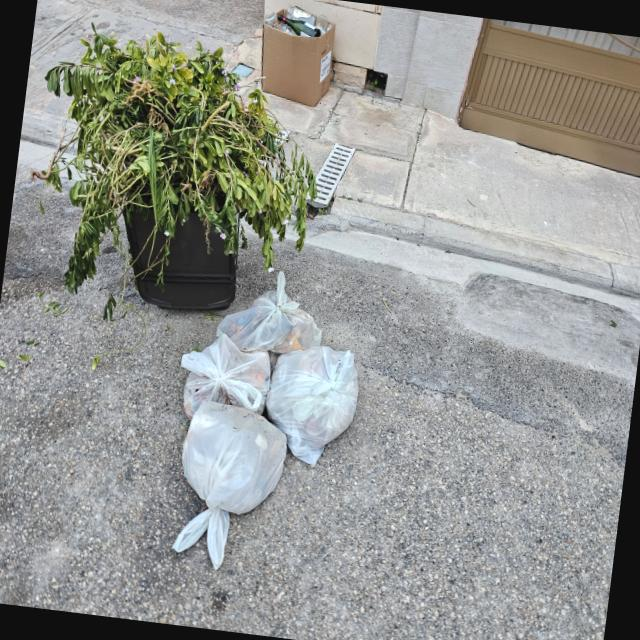other_waste: (249, 0, 342, 115)
white_bag: (165, 396, 292, 582), (258, 336, 366, 474), (212, 262, 330, 362), (172, 325, 278, 427)
